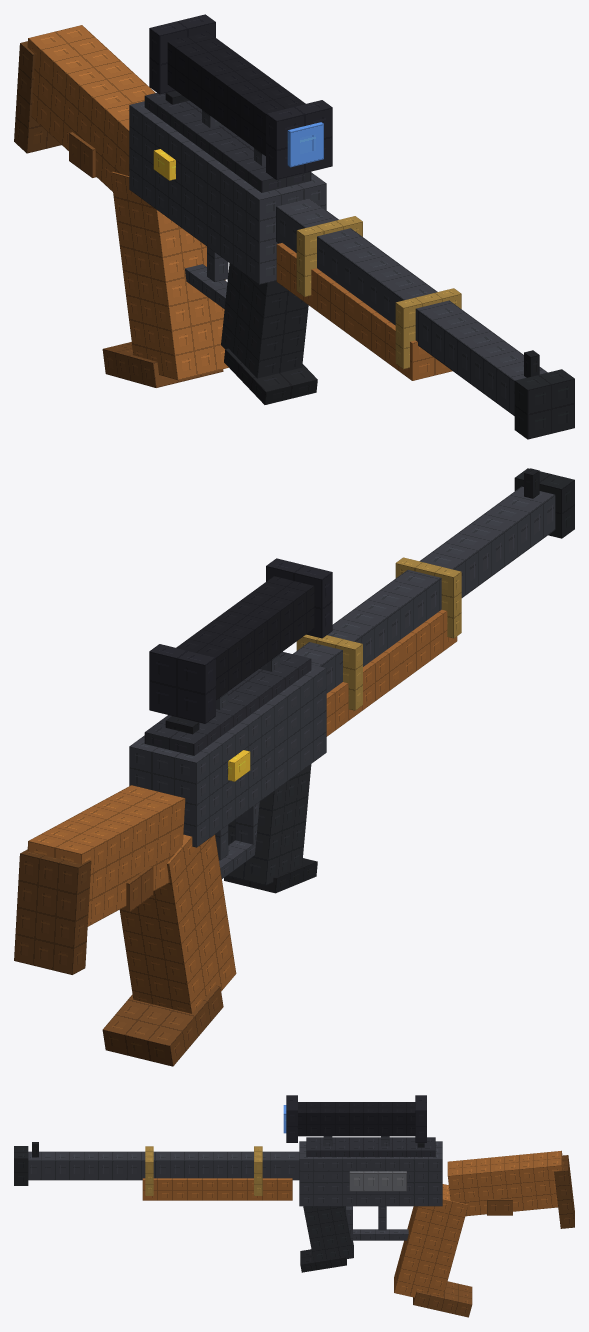
The picture shows the model from 3 angles, top to bottom: view 1: azimuth 30°, elevation 25°; view 2: azimuth 150°, elevation 25°; view 3: azimuth 270°, elevation 25°; orthographic projection. The views are drawn at different scales.
Parts seen in each view (by area): view 1: W12; view 2: W12; view 3: W12.
Boxes of the visible parts, x1,y1,x2,y2 form: W12: [14, 14, 574, 439]; W12: [14, 468, 574, 1066]; W12: [14, 1095, 574, 1317].
Bounding box in the file's own units: 0.36 × 1.58 × 3.91.
Materials: 1 (1 with a texture image).
